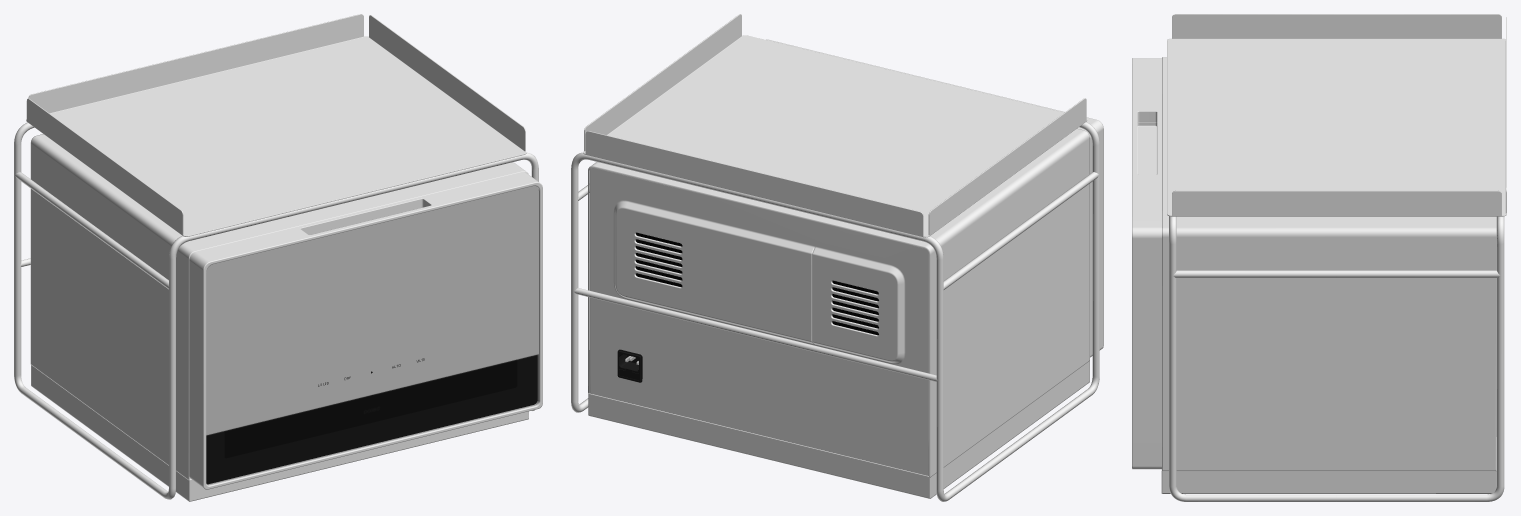
The model's file is appliance7368.glb.
3 renders of one model, left to right at view 1: azimuth 30°, elevation 25°; view 2: azimuth 150°, elevation 25°; view 3: azimuth 270°, elevation 25°, orthographic. The views are drawn at different scales.
Visible parts, largest first — view 1: appliance7368; view 2: appliance7368; view 3: appliance7368.
Boxes of the visible parts, <box> form: appliance7368: <box>14,14,542,501</box>; appliance7368: <box>571,14,1103,501</box>; appliance7368: <box>1132,14,1506,501</box>.
Size of the model in its own units: 0.456 by 0.341 by 0.379.
Materials: 4 (4 with a texture image).
